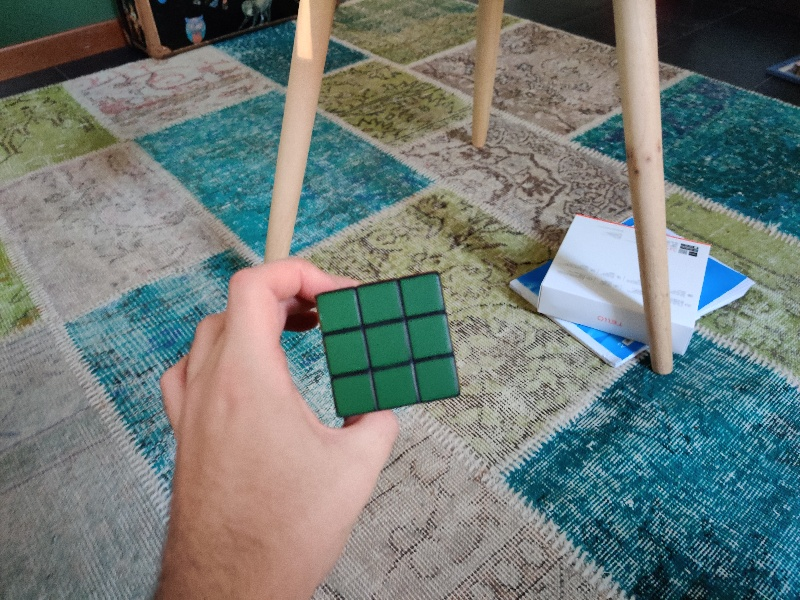rubik: (313, 272, 463, 420)
